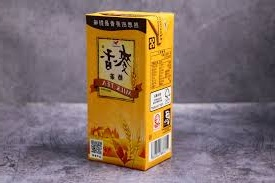鋁箔包: (82, 9, 179, 172)
